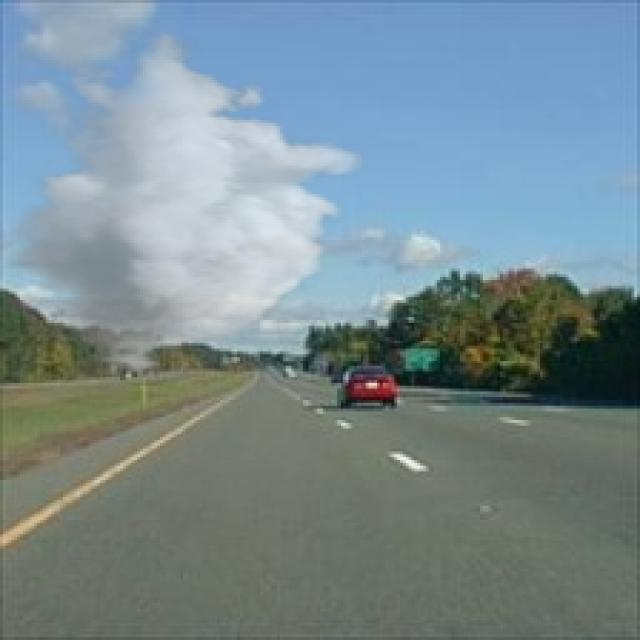Smoke: (0, 32, 369, 377)
